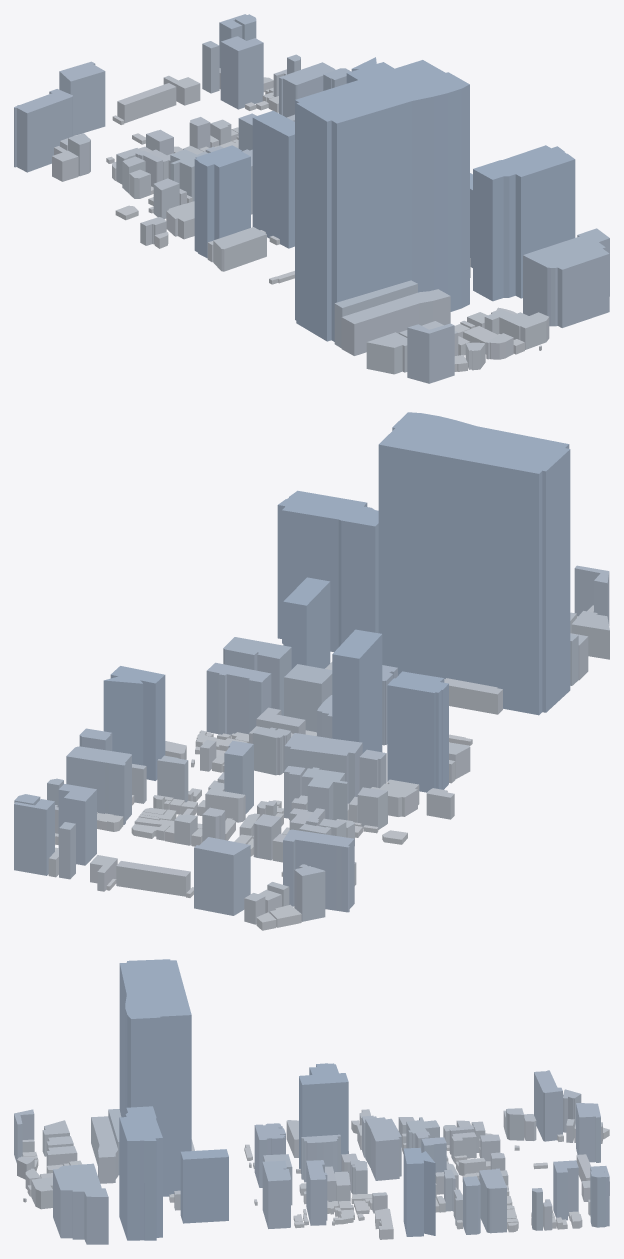
The picture shows the model from 3 angles, top to bottom: view 1: azimuth 30°, elevation 25°; view 2: azimuth 150°, elevation 25°; view 3: azimuth 270°, elevation 25°; orthographic projection. The views are drawn at different scales.
Bounding box in the file's own units: 254 × 170 × 508.
